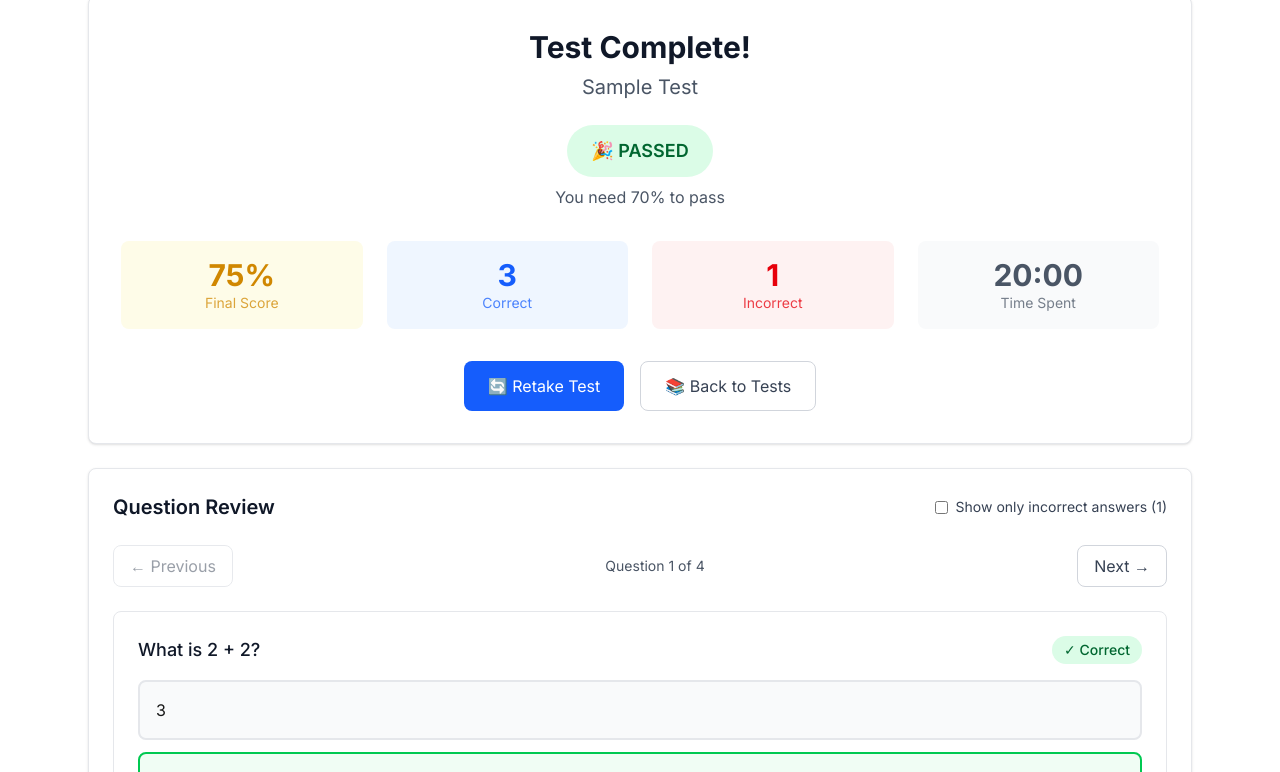
TestReviewComponent › navigates to next question
This screenshot has width=1280, height=772.
Click the button "Next →" at (1122, 566), box [1077,545,1167,587]
(page scrolled)
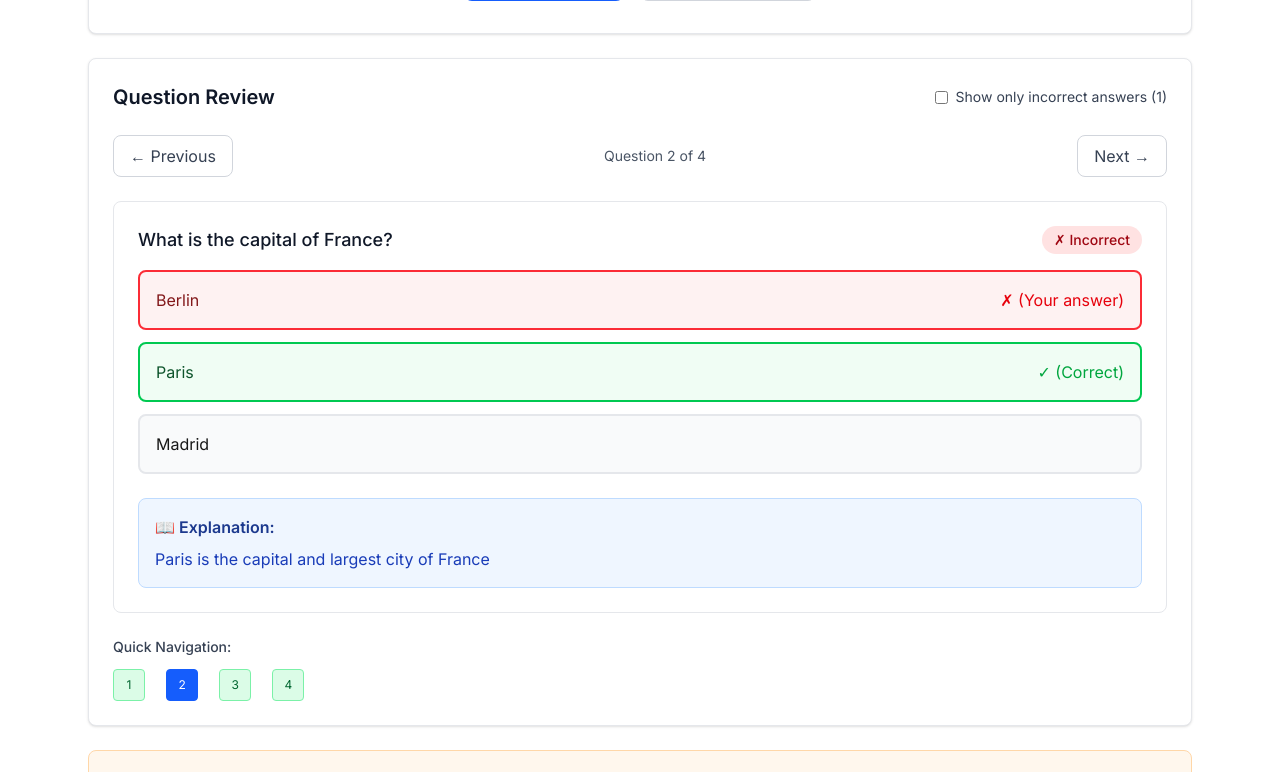
Result: the heading "What is the capital of France?" is shown at [138,229,393,250]
Result: the text "✗ (Your answer)" is shown at [1000,288,1124,312]
Result: the text "✓ (Correct)" is shown at [1037,360,1124,384]
